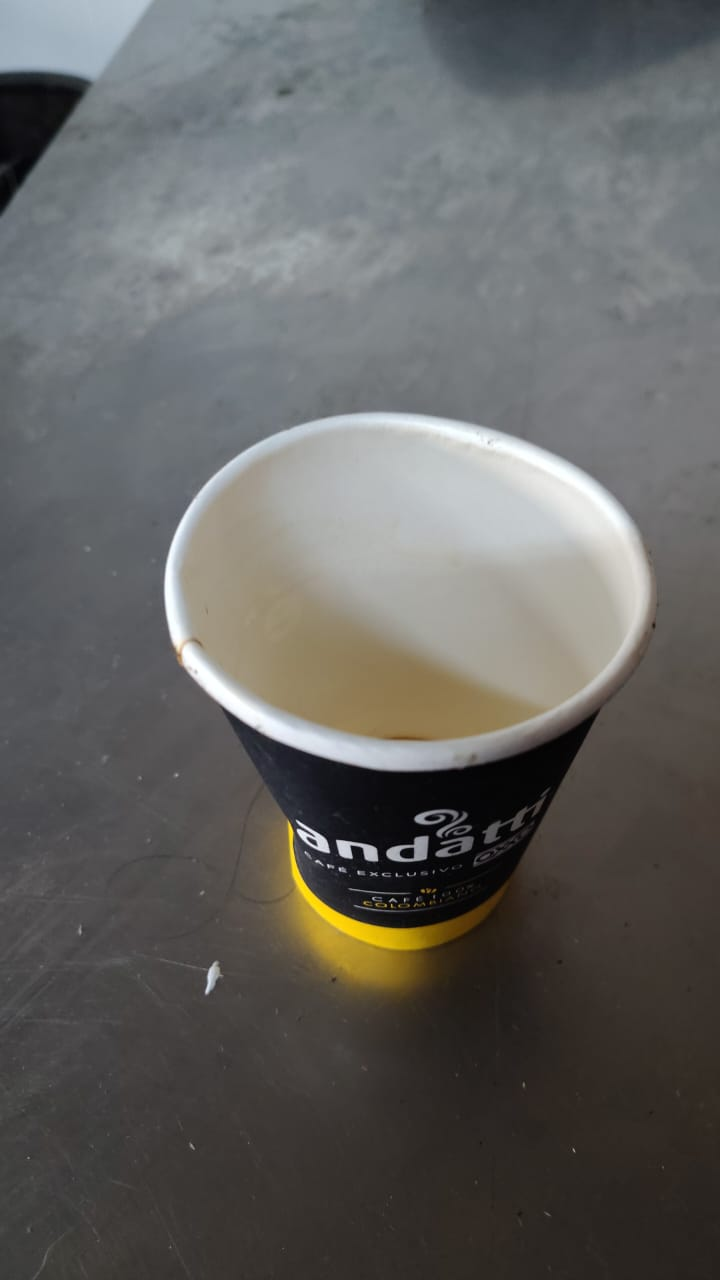Carton: (164, 412, 653, 952)
